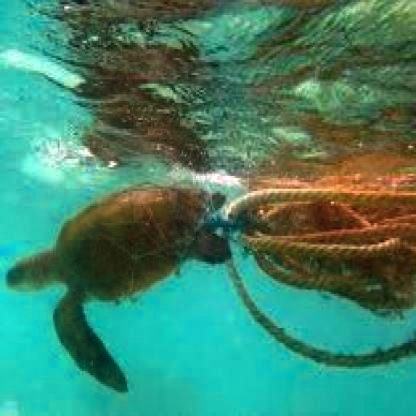net: (223, 184, 416, 369)
